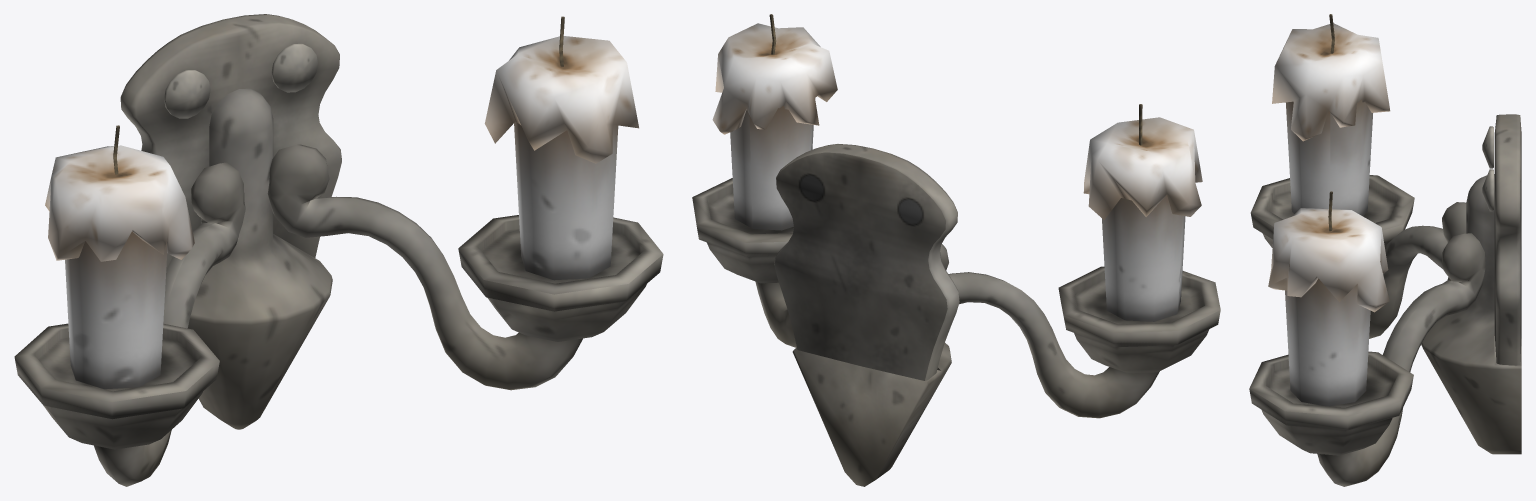
File: sb_obj_indoor009_Candlestand03.fbx
3 views of the same model, side by side, from view 1: azimuth 30°, elevation 25°; view 2: azimuth 150°, elevation 25°; view 3: azimuth 270°, elevation 25° (orthographic). The views are drawn at different scales.
Visible parts, largest first — view 1: sb_obj_indoor009_Candlestand03; view 2: sb_obj_indoor009_Candlestand03; view 3: sb_obj_indoor009_Candlestand03.
Part boxes in pixels (box(x1,y1,x2,y2)): sb_obj_indoor009_Candlestand03: box(14, 14, 663, 486); sb_obj_indoor009_Candlestand03: box(692, 14, 1220, 486); sb_obj_indoor009_Candlestand03: box(1249, 14, 1521, 486).
Size of the model in its own units: 0.4658 by 0.3089 by 0.2181.
